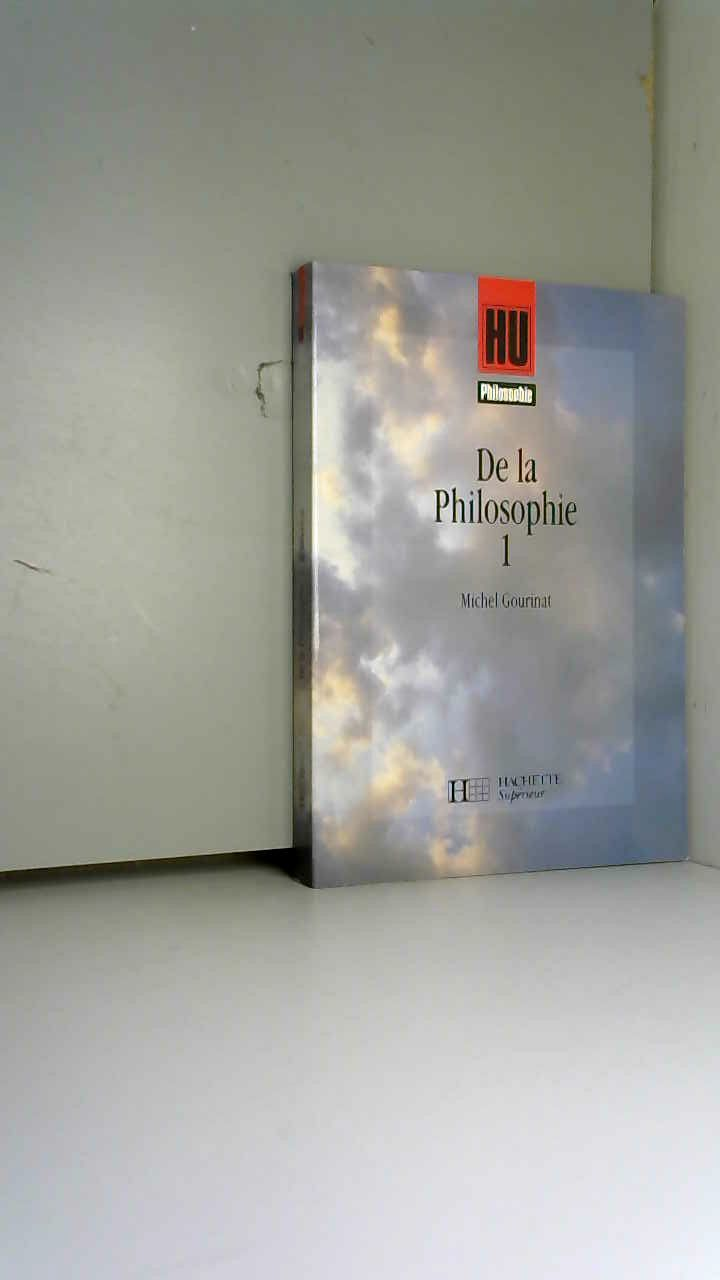book: (260, 230, 720, 905)
